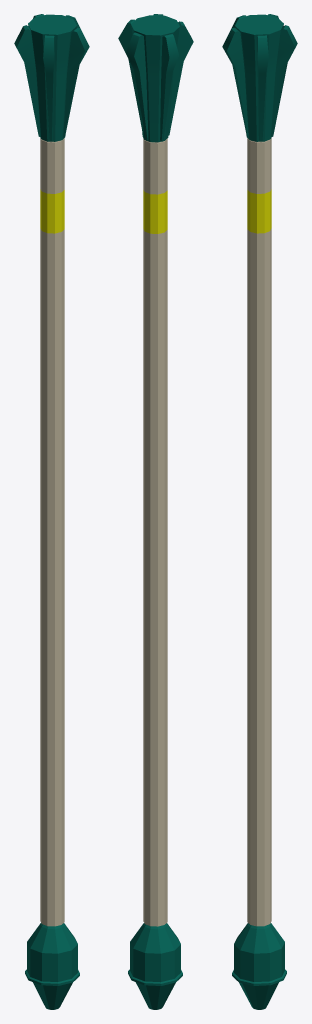
The model's file is tuho_spear_blue.fbx.
3 views of the same model, side by side, from view 1: azimuth 30°, elevation 25°; view 2: azimuth 210°, elevation 25°; view 3: azimuth 330°, elevation 25° (orthographic).
Visible parts, largest first — view 1: spear_blue; view 2: spear_blue; view 3: spear_blue.
Boxes of the visible parts, x1,y1,x2,y2 form: spear_blue: (14, 14, 89, 1009); spear_blue: (118, 14, 193, 1009); spear_blue: (222, 14, 297, 1009).
Bounding box in the file's own units: 0.697 × 9.95 × 0.6629.
